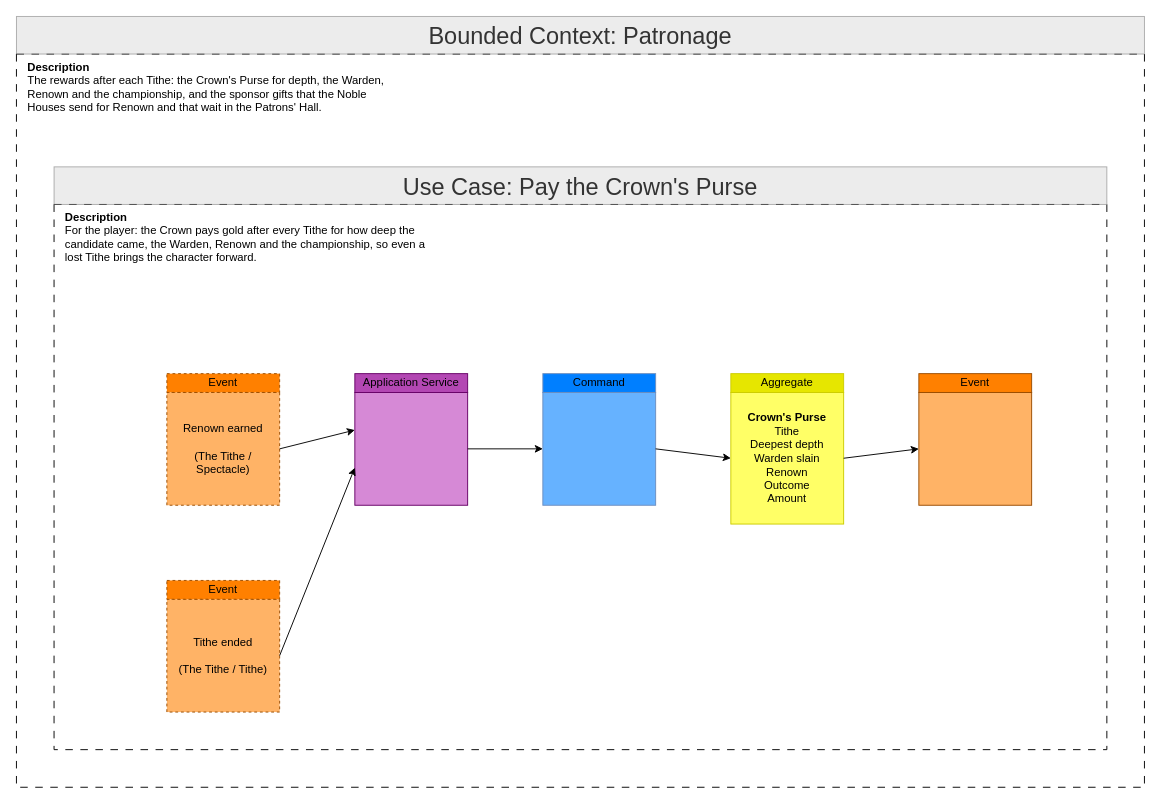
The diagram is 1161 pixels wide and 804 high, and some of its shapes have lost their labels. Here are the shapes that lost their labels. From the top down, the centre of each, then its label:
the point at 411,448: Crown treasurer
the point at 599,448: Pay the purse Tithe
the point at 975,448: Purse paid
